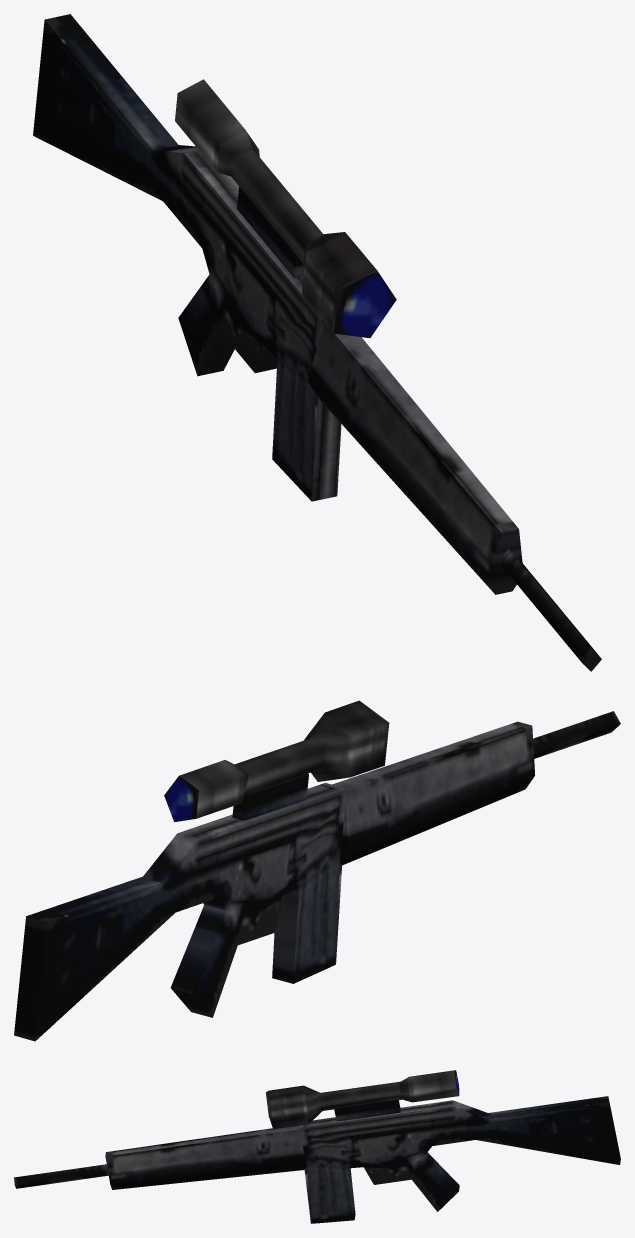
File: g3sg1-world.glb
The picture shows the model from 3 angles, top to bottom: view 1: azimuth 30°, elevation 25°; view 2: azimuth 150°, elevation 25°; view 3: azimuth 270°, elevation 25°; orthographic projection. The views are drawn at different scales.
Visible parts, largest first — view 1: g3sg1 held; view 2: g3sg1 held; view 3: g3sg1 held.
Boxes of the visible parts, <box> form: g3sg1 held: <box>33,14,601,671</box>; g3sg1 held: <box>14,700,620,1041</box>; g3sg1 held: <box>14,1070,620,1223</box>.
Bounding box in the file's own units: 0.0809 × 0.2952 × 1.05.
1 material, 1 textured.
